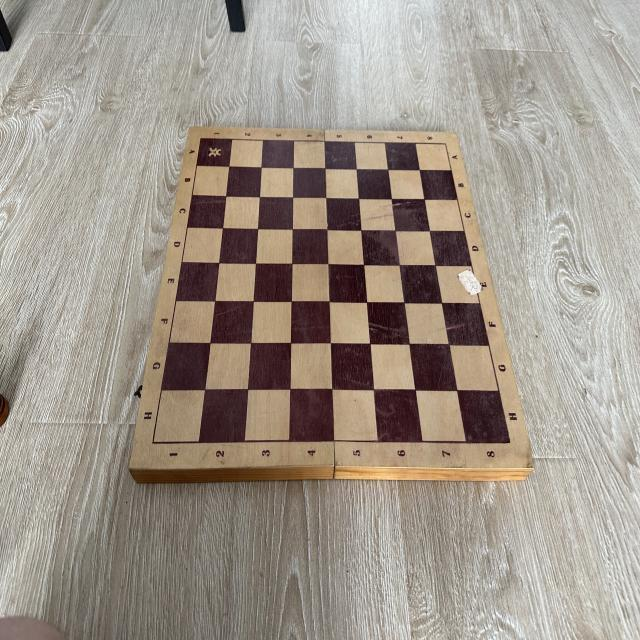chess-table-corners: (150, 437, 158, 447), (507, 437, 512, 448), (442, 140, 448, 148), (198, 134, 203, 142)
